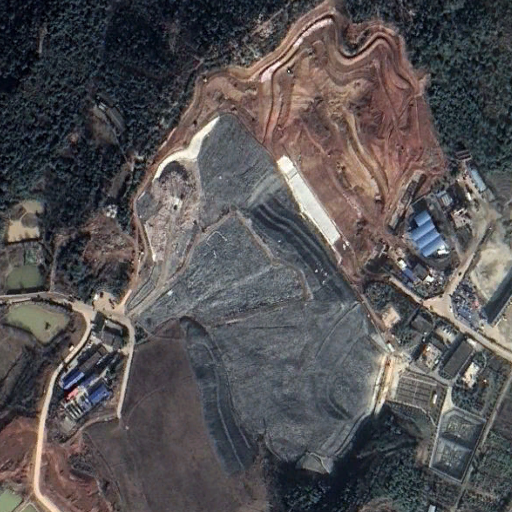lf: (124, 105, 395, 470)
